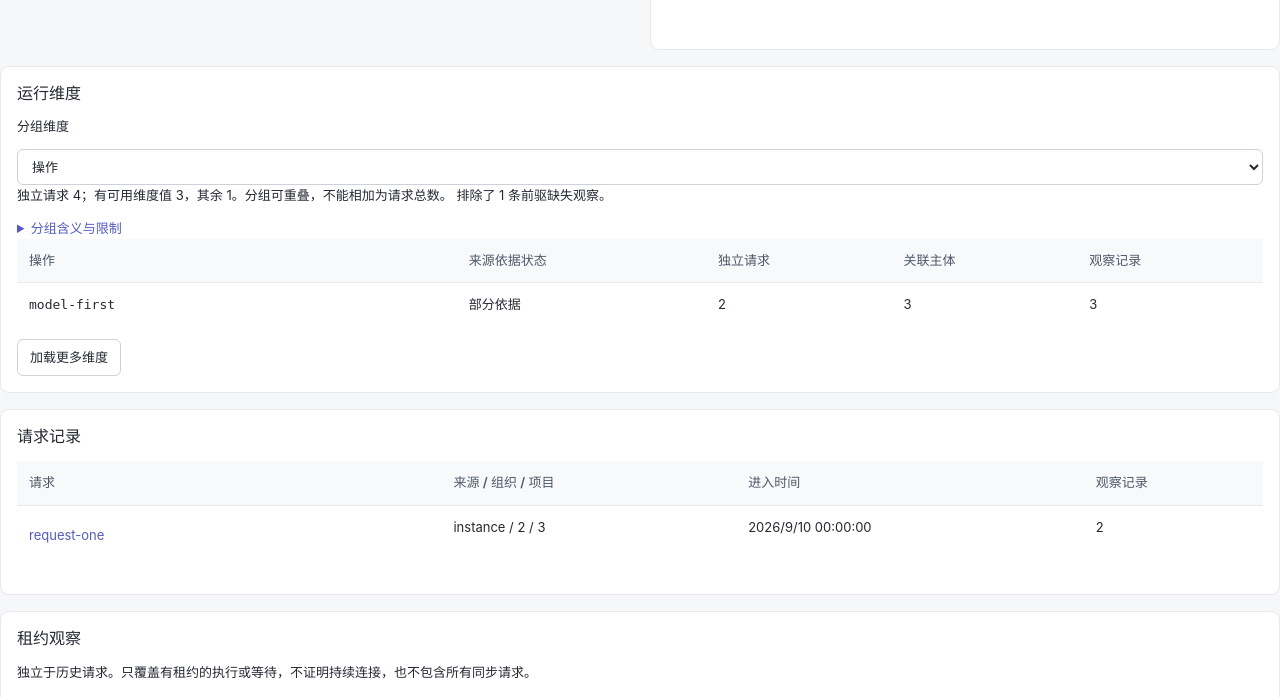
it: retries the failed frozen cursor and removes the whole reading after a revoked page
The width and height of the screenshot is (1280, 697).
(page scrolled)
Click the button "加载更多维度" at x=69, y=358, box top-left (17, 339), bottom-right (121, 376)
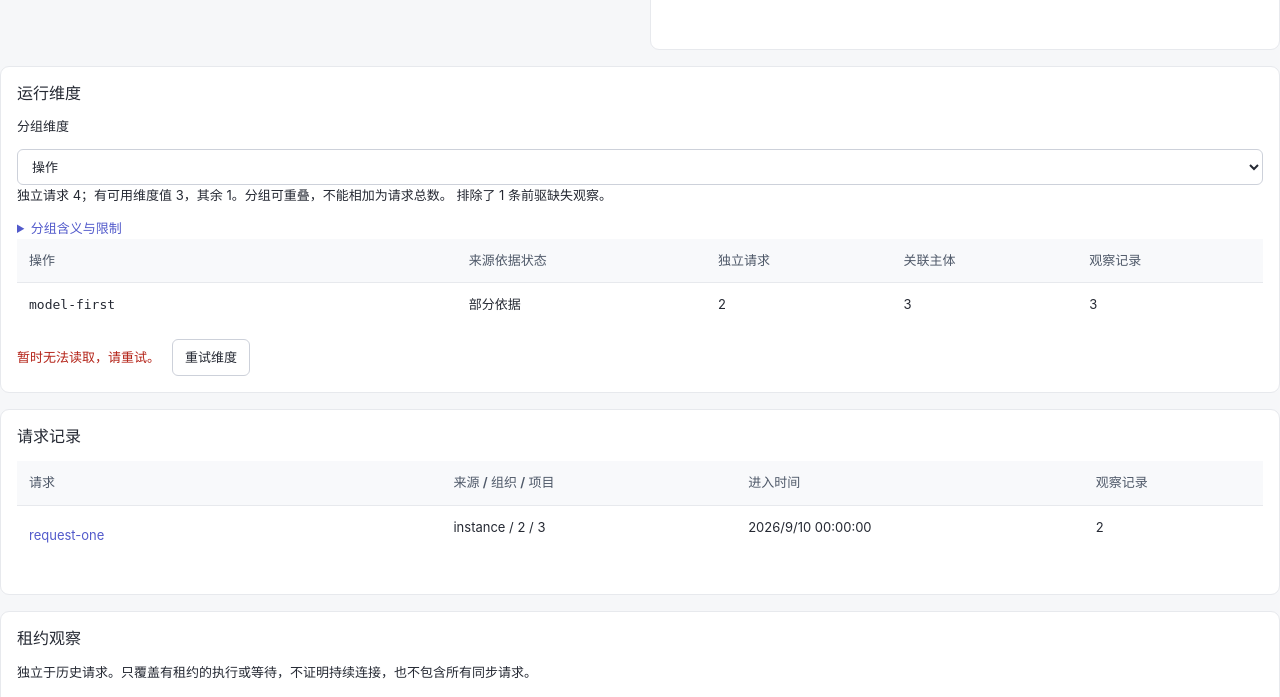
expect the text "model-first" is shown: met, box top-left (29, 297), bottom-right (115, 312)
Click the button "重试维度" at x=211, y=358, box top-left (172, 339), bottom-right (250, 376)
(page scrolled)
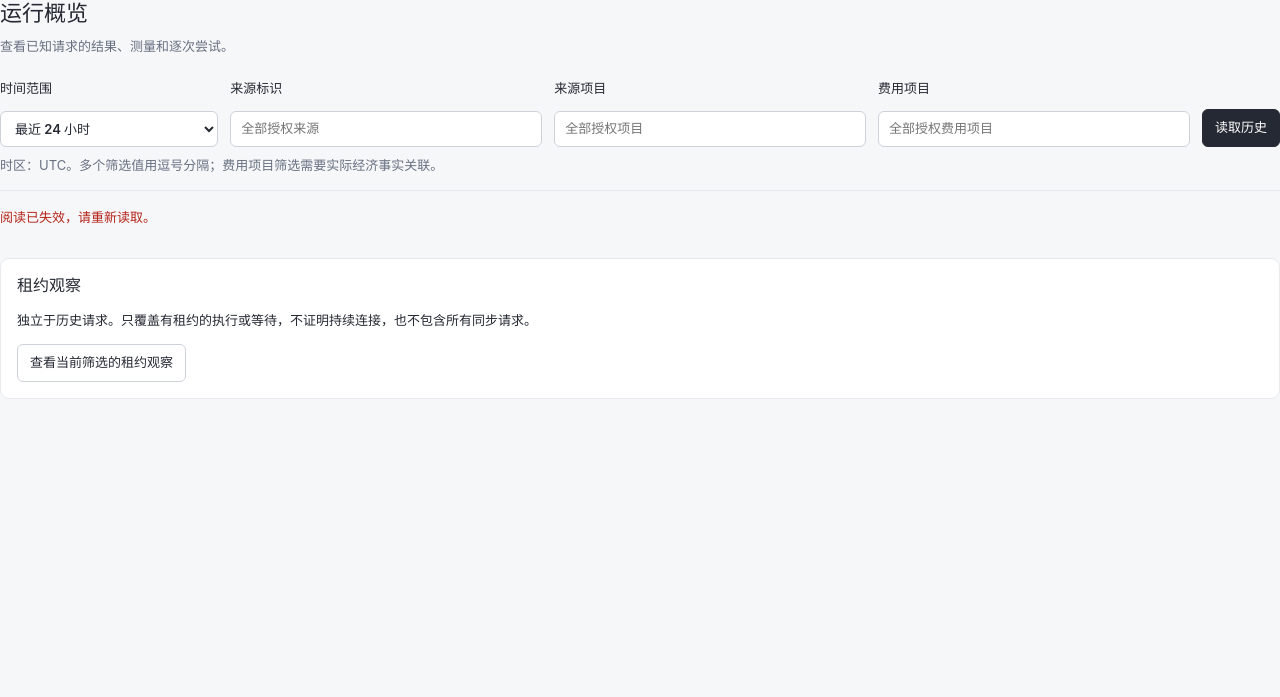
expect the text "阅读已失效，请重新读取。" is shown: met, box top-left (0, 209), bottom-right (156, 225)
expect the text "model-first" is gone: met
expect the button "request-one" is gone: met
